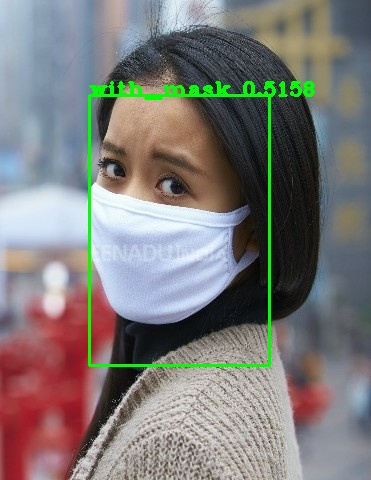with_mask: (89, 80, 262, 325)
